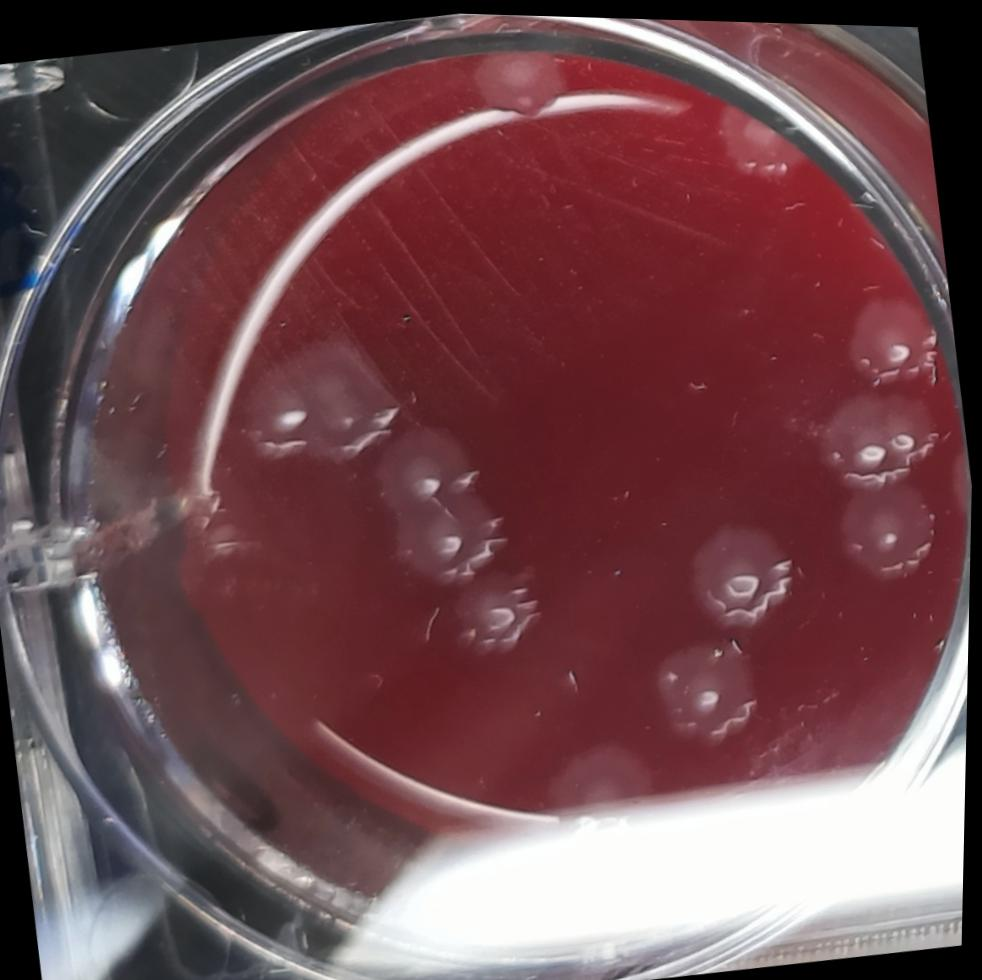vproteolyticus: (235, 321, 406, 476), (646, 619, 775, 755), (676, 504, 807, 631), (808, 378, 951, 488), (831, 465, 950, 583), (387, 486, 516, 594), (364, 412, 485, 520), (430, 559, 552, 666), (837, 280, 949, 388), (709, 87, 820, 190), (460, 35, 580, 128)
